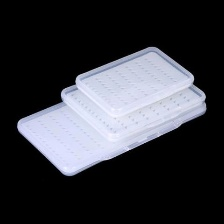plastic_box: (13, 42, 212, 180), (56, 72, 209, 145), (72, 42, 197, 120)
